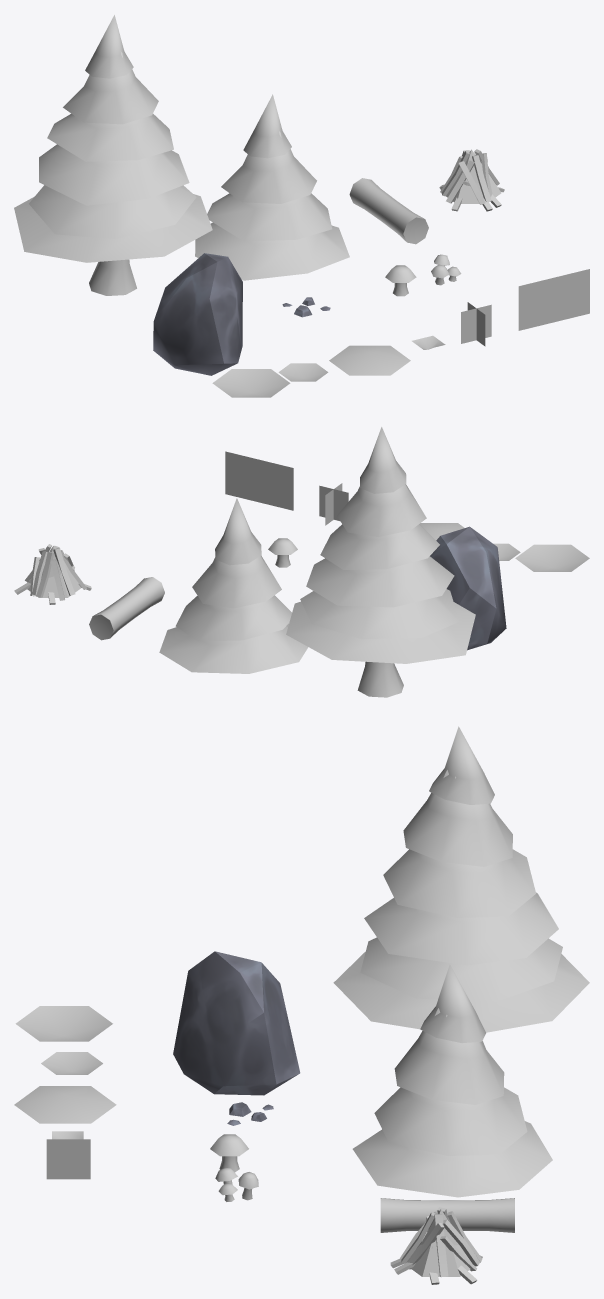
File: forest.fbx
The picture shows the model from 3 angles, top to bottom: view 1: azimuth 30°, elevation 25°; view 2: azimuth 150°, elevation 25°; view 3: azimuth 270°, elevation 25°; orthographic projection. The views are drawn at different scales.
Visible parts, largest first — view 1: tree 1, tree 2, rock 1, grass 4, campfire, wood, flower 1, grass 1, grass 3, grass 2, mushroom 1, mushroom 2; view 2: tree 1, tree 2, rock 1, grass 4, campfire, wood, grass 1, grass 3, mushroom 1, flower 1; view 3: tree 1, tree 2, rock 1, campfire, wood, flower 1, grass 1, grass 3, grass 2, mushroom 2, mushroom 1.
Part boxes in pixels (left/top/right/bottom): tree 1: left=14, top=15, right=212, bottom=295; tree 2: left=195, top=94, right=349, bottom=280; rock 1: left=153, top=253, right=242, bottom=375; grass 4: left=518, top=269, right=589, bottom=330; campfire: left=439, top=149, right=504, bottom=211; wood: left=349, top=178, right=428, bottom=244; flower 1: left=329, top=345, right=410, bottom=375; grass 1: left=212, top=369, right=290, bottom=397; grass 3: left=461, top=302, right=491, bottom=346; grass 2: left=278, top=363, right=328, bottom=381; mushroom 1: left=385, top=265, right=416, bottom=296; mushroom 2: left=431, top=254, right=461, bottom=285; tree 1: left=286, top=427, right=475, bottom=697; tree 2: left=159, top=498, right=308, bottom=673; rock 1: left=430, top=526, right=506, bottom=650; grass 4: left=225, top=451, right=293, bottom=510; campfire: left=14, top=544, right=91, bottom=604; wood: left=89, top=577, right=164, bottom=640; grass 1: left=515, top=544, right=589, bottom=571; grass 3: left=319, top=483, right=348, bottom=525; mushroom 1: left=268, top=538, right=297, bottom=567; flower 1: left=420, top=523, right=464, bottom=540; tree 1: left=333, top=726, right=589, bottom=1048; tree 2: left=352, top=964, right=552, bottom=1197; rock 1: left=173, top=951, right=300, bottom=1095; campfire: left=390, top=1207, right=482, bottom=1284; wood: left=380, top=1198, right=514, bottom=1232; flower 1: left=14, top=1086, right=116, bottom=1123; grass 1: left=15, top=1006, right=112, bottom=1041; grass 3: left=46, top=1139, right=90, bottom=1179; grass 2: left=41, top=1052, right=102, bottom=1074; mushroom 2: left=215, top=1167, right=258, bottom=1201; mushroom 1: left=210, top=1134, right=248, bottom=1172.
Bounding box in the file's own units: 322 × 190 × 274.
